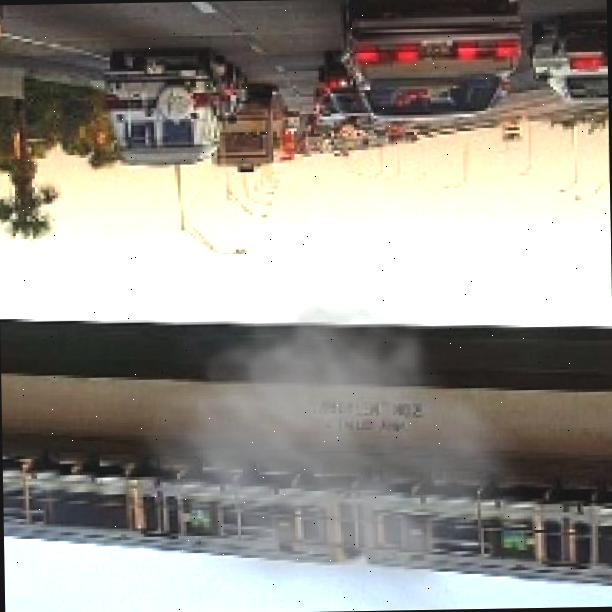smoke: (122, 256, 536, 612)
